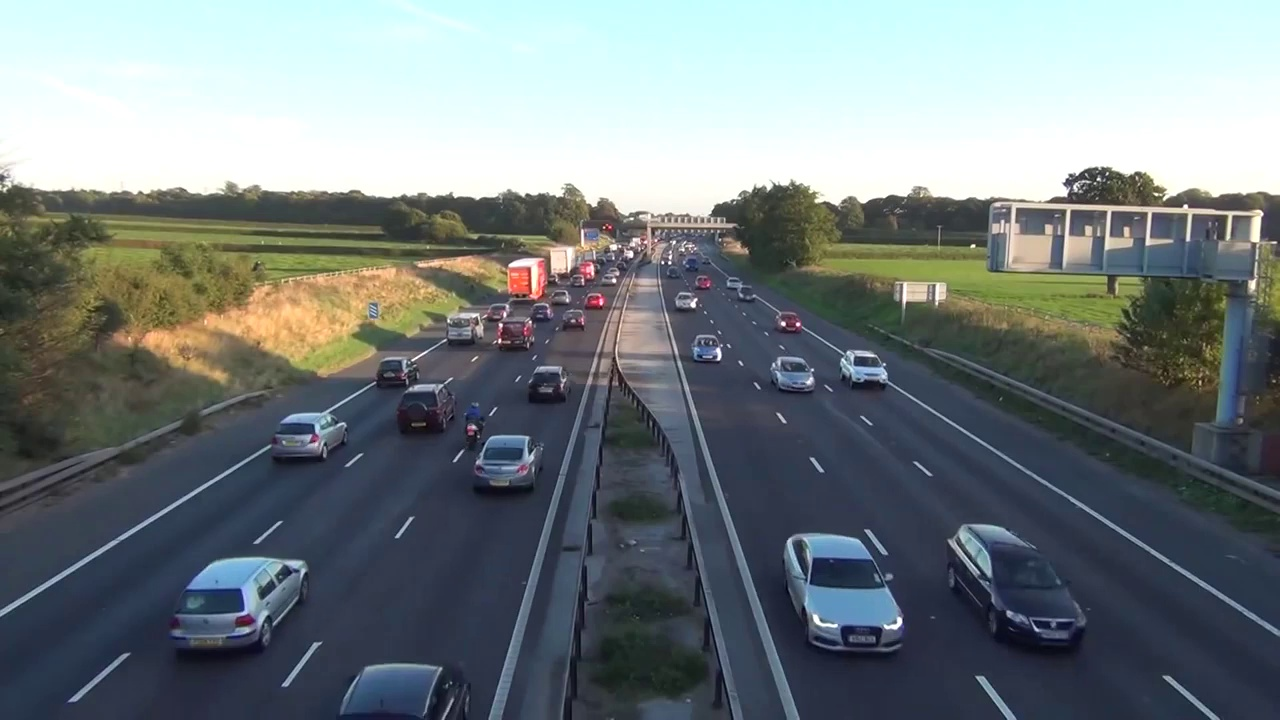bus: (939, 510, 1097, 661), (779, 525, 910, 663), (161, 555, 317, 652), (330, 654, 480, 712), (475, 432, 546, 494), (267, 410, 345, 461), (396, 386, 454, 435), (840, 346, 899, 387), (523, 362, 575, 407), (766, 350, 814, 391), (688, 333, 725, 364), (378, 360, 414, 387), (774, 309, 801, 333), (561, 310, 587, 332), (672, 290, 698, 310), (529, 302, 555, 322), (486, 304, 511, 323), (736, 283, 757, 303), (548, 289, 571, 305), (693, 273, 713, 289), (724, 276, 744, 291), (583, 294, 602, 308), (600, 273, 617, 286), (571, 274, 588, 287), (667, 267, 680, 280), (658, 258, 674, 268), (607, 267, 621, 276), (545, 273, 559, 281), (616, 262, 626, 272), (595, 265, 600, 273)
car: (508, 255, 545, 301), (549, 246, 575, 278)
jeep: (461, 398, 489, 457)
lorry: (496, 314, 538, 354), (446, 312, 485, 345), (575, 257, 581, 269)
minibus: (577, 261, 596, 281), (684, 256, 699, 269)
